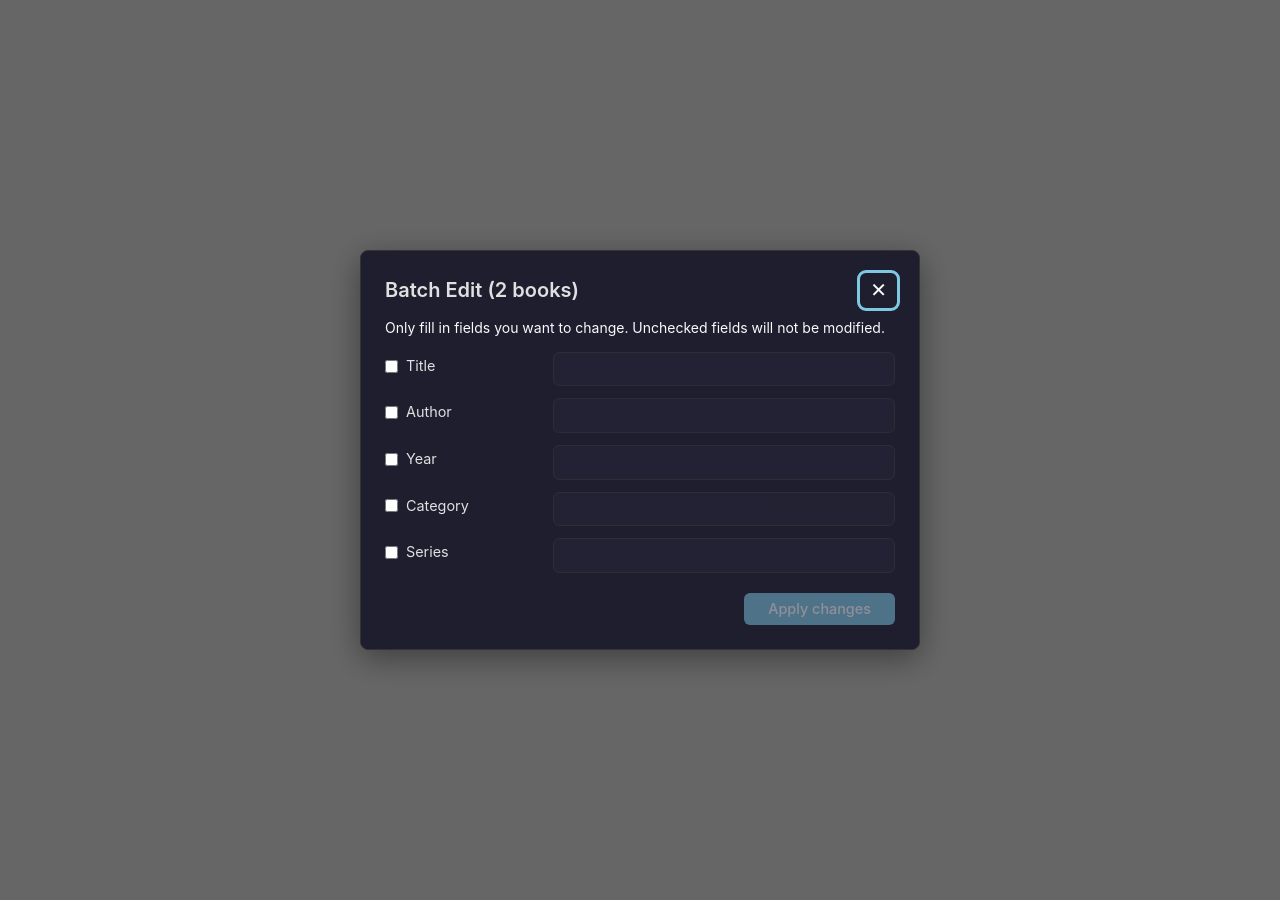
Test case: BatchEditPanel › shows error when API returns failure
Click the checkbox labelled "Title": [392, 366] box left=385, top=360, right=398, bottom=373
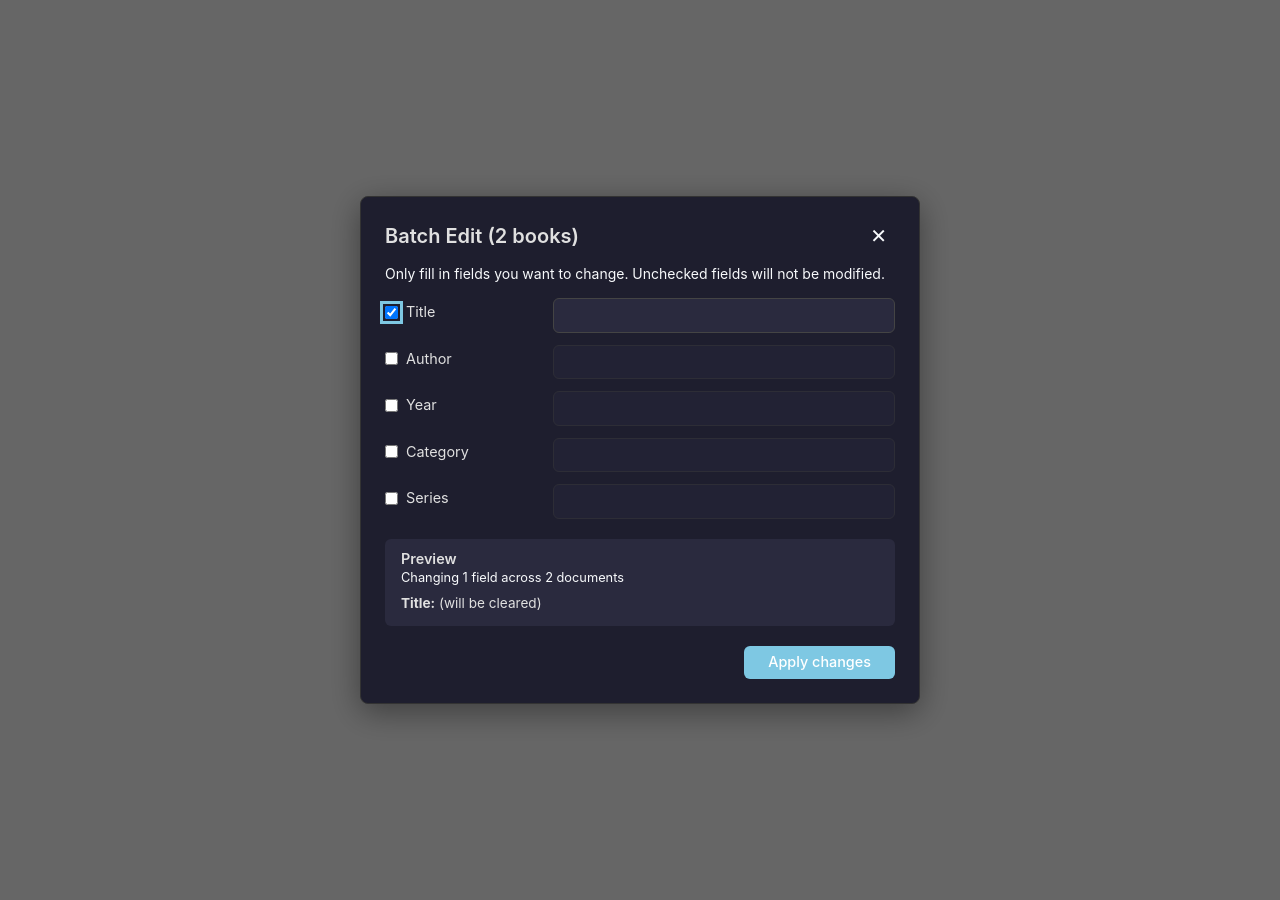
Click the button "Apply changes": [820, 663] box left=744, top=646, right=895, bottom=679
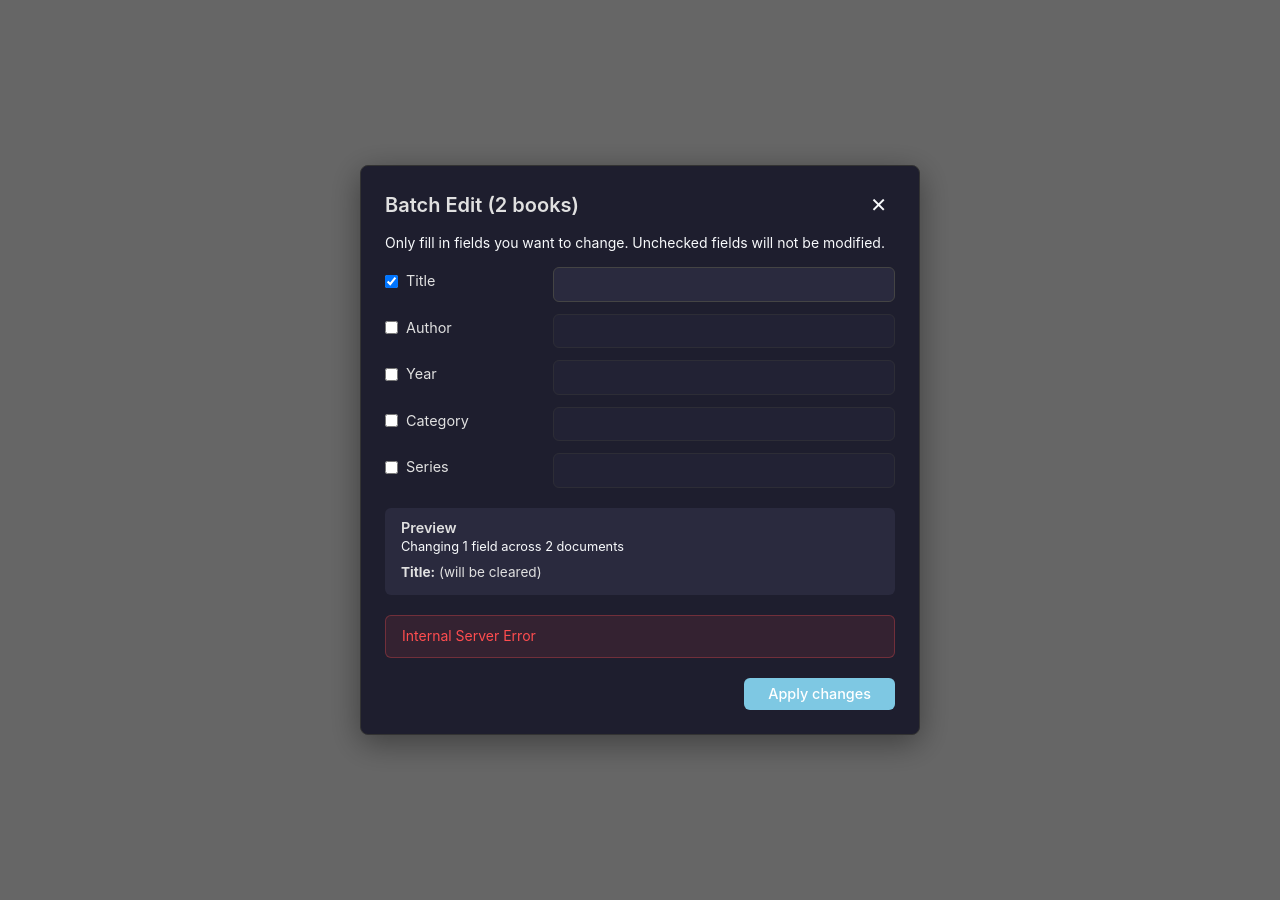
Expected: the message "Internal Server Error" is shown, left=385, top=615, right=895, bottom=658
